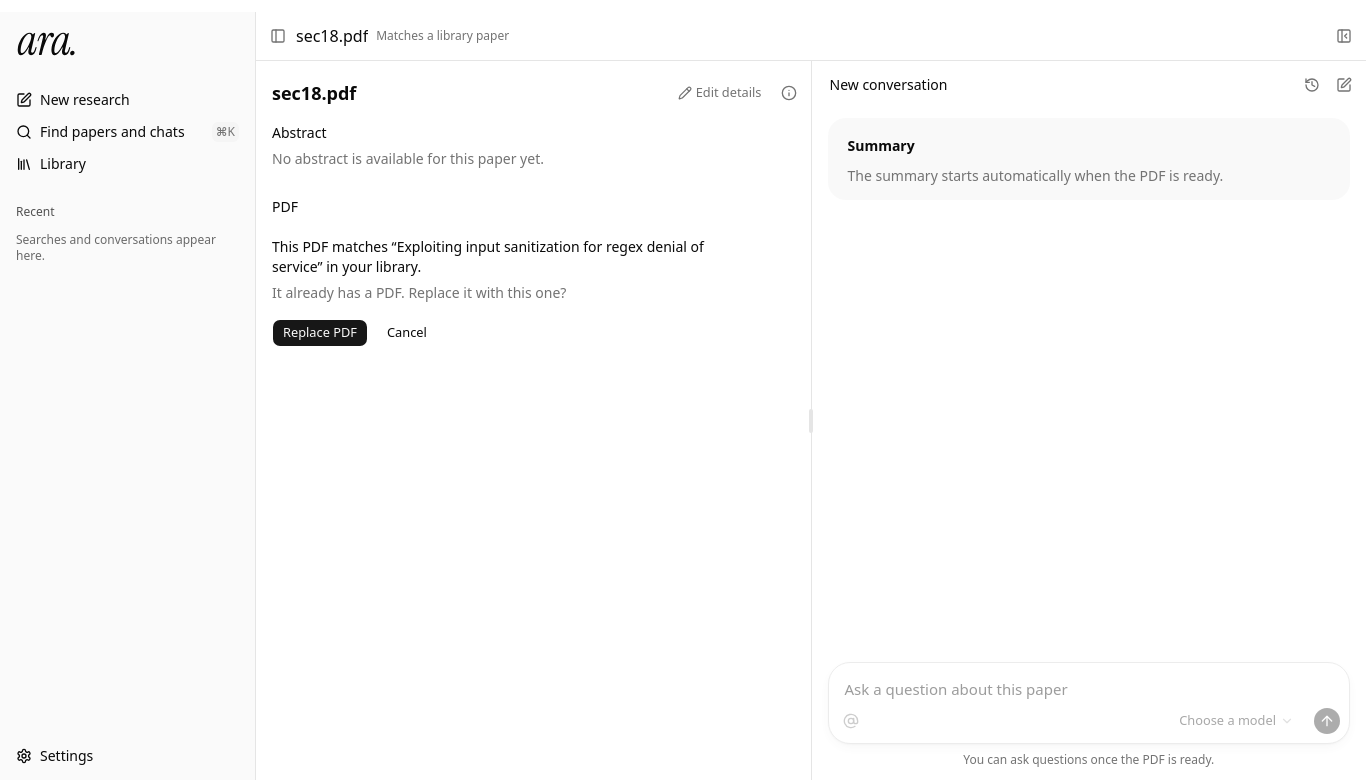
Given the same decision, When Cancel is pressed, Then the upload is discarded and the library opens
Click the button "Cancel": (407, 333) [376, 319, 438, 347]
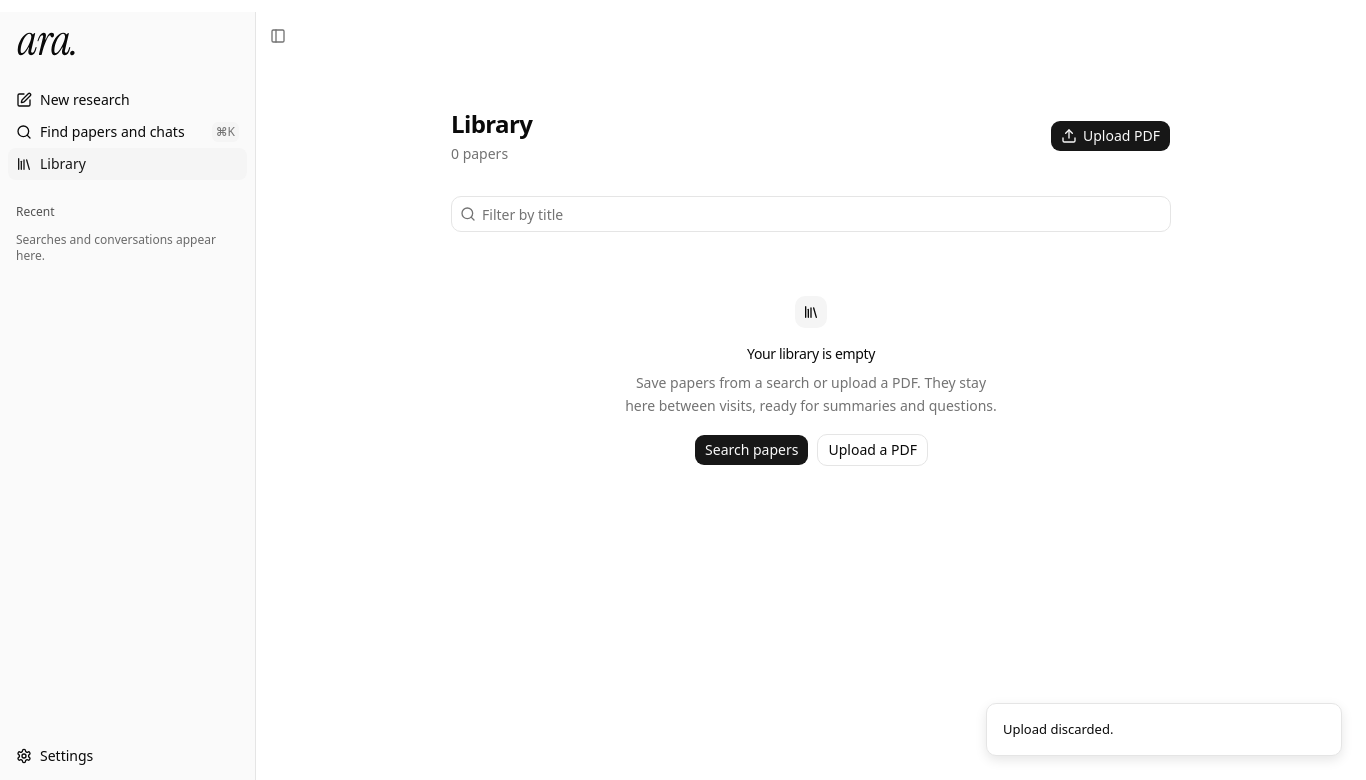
Expected: the heading "Library" is shown, [451, 108, 532, 140]
Expected: the text "Upload discarded." is shown, [1003, 720, 1113, 739]
